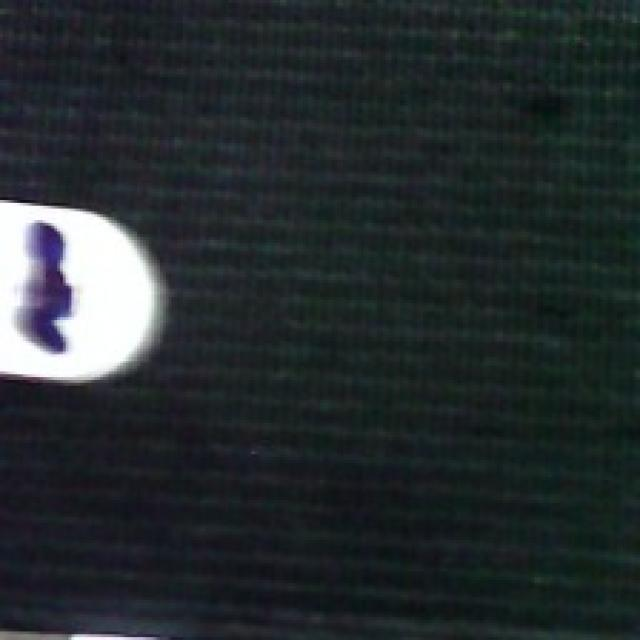defected: (0, 191, 171, 391)
